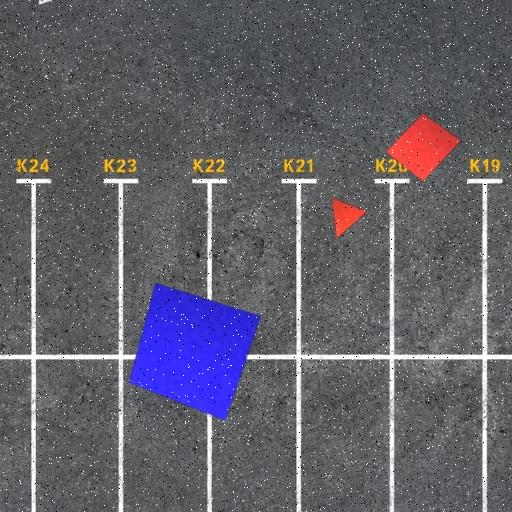BLUE_SQUARE: (128, 282, 262, 422)
RED_SQUARE: (386, 113, 462, 182)
